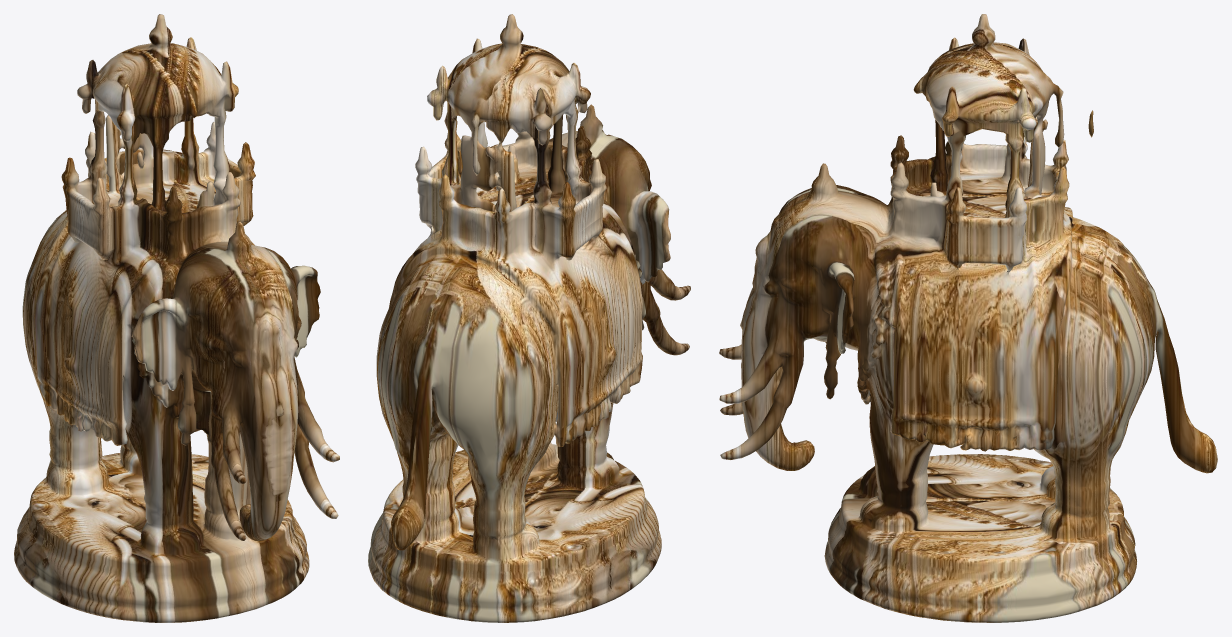
The model's file is gaja.glb.
3 views of the same model, side by side, from view 1: azimuth 30°, elevation 25°; view 2: azimuth 150°, elevation 25°; view 3: azimuth 270°, elevation 25° (orthographic).
Visible parts, largest first — view 1: geometry_0; view 2: geometry_0; view 3: geometry_0.
Part boxes in pixels (x1,y1,x2,y2): geometry_0: [14, 14, 339, 622]; geometry_0: [368, 14, 690, 622]; geometry_0: [719, 14, 1217, 622].
Bounding box in the file's own units: 0.9293 × 1.97 × 1.61.
1 material, 1 textured.
